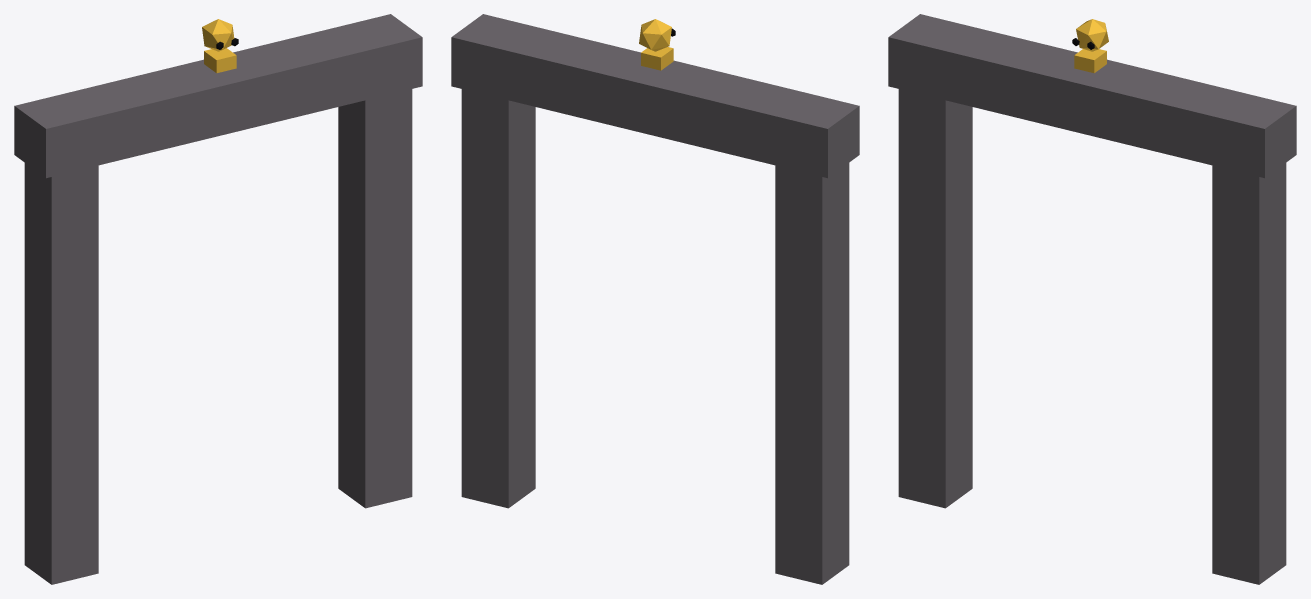
The model's file is Bld_OR_SkullArch_01.glb.
The picture shows the model from 3 angles, left to right: view 1: azimuth 30°, elevation 25°; view 2: azimuth 150°, elevation 25°; view 3: azimuth 330°, elevation 25°; orthographic projection.
Parts seen in each view (by area): view 1: Bld_OR_SkullArch_01; view 2: Bld_OR_SkullArch_01; view 3: Bld_OR_SkullArch_01.
Part boxes in pixels (x1,y1,x2,y2): Bld_OR_SkullArch_01: [14, 14, 422, 584]; Bld_OR_SkullArch_01: [451, 14, 859, 584]; Bld_OR_SkullArch_01: [888, 14, 1296, 584].
Size of the model in its own units: 4.8 by 6.24 by 0.7.
